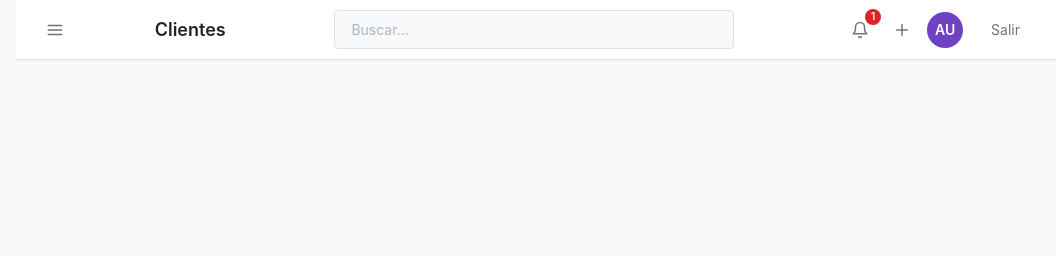
Test: Navbar › clicking bell opens notification dropdown
Click the button named "Notificaciones" at (860, 30), box [843,12,877,46]
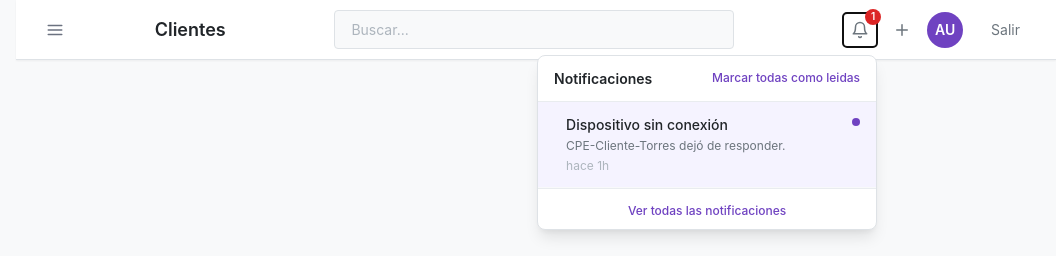
Now the text "Notificaciones" is shown, box [554,68,652,88]
